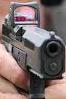gun: (1, 1, 66, 99)
